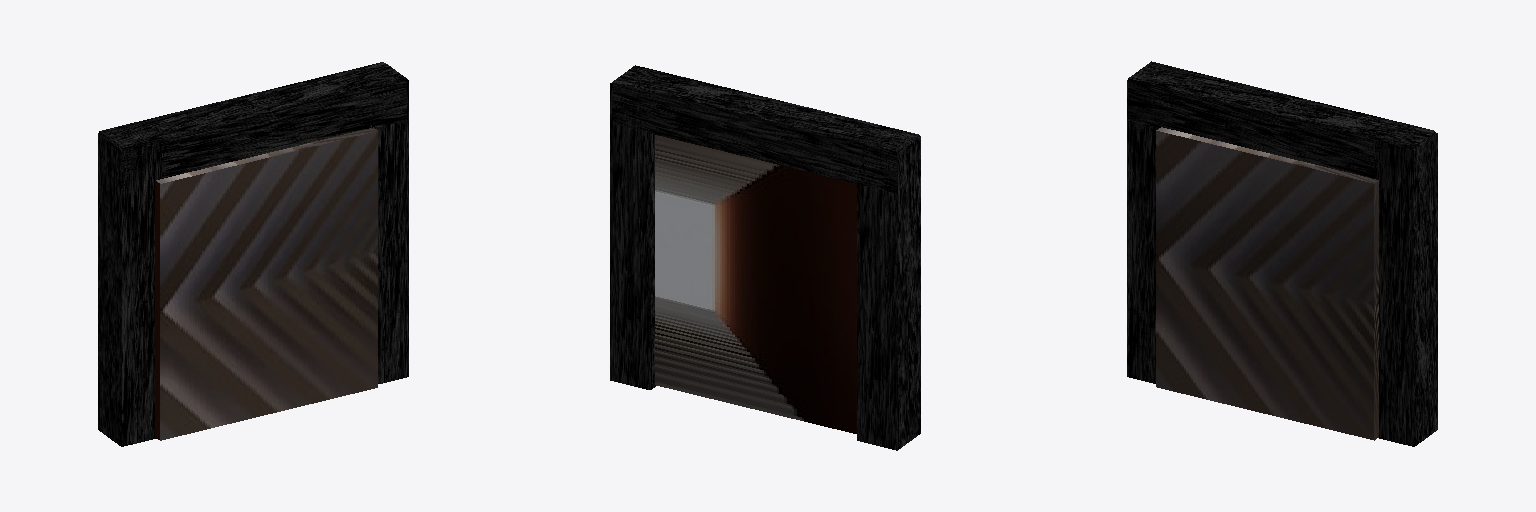
3 views of the same model, side by side, from view 1: azimuth 30°, elevation 25°; view 2: azimuth 150°, elevation 25°; view 3: azimuth 330°, elevation 25° (orthographic).
Parts seen in each view (by area): view 1: Cube.007, Cube.001, Cube.002, Cube.003; view 2: Cube.007, Cube.002, Cube.001, Cube.003; view 3: Cube.007, Cube.003, Cube.002, Cube.001.
Part boxes in pixels (left/top/right/bottom): Cube.007: left=155, top=127, right=377, bottom=440; Cube.001: left=98, top=133, right=161, bottom=446; Cube.002: left=99, top=62, right=406, bottom=189; Cube.003: left=369, top=64, right=408, bottom=383; Cube.007: left=655, top=135, right=856, bottom=433; Cube.002: left=613, top=65, right=919, bottom=193; Cube.001: left=857, top=136, right=920, bottom=450; Cube.003: left=610, top=66, right=655, bottom=389; Cube.007: left=1156, top=127, right=1378, bottom=440; Cube.003: left=1374, top=132, right=1437, bottom=446; Cube.002: left=1128, top=61, right=1434, bottom=183; Cube.001: left=1127, top=80, right=1166, bottom=383.
Bounding box in the file's own units: 143 × 142 × 24.22.
Materials: 2 (2 with a texture image).